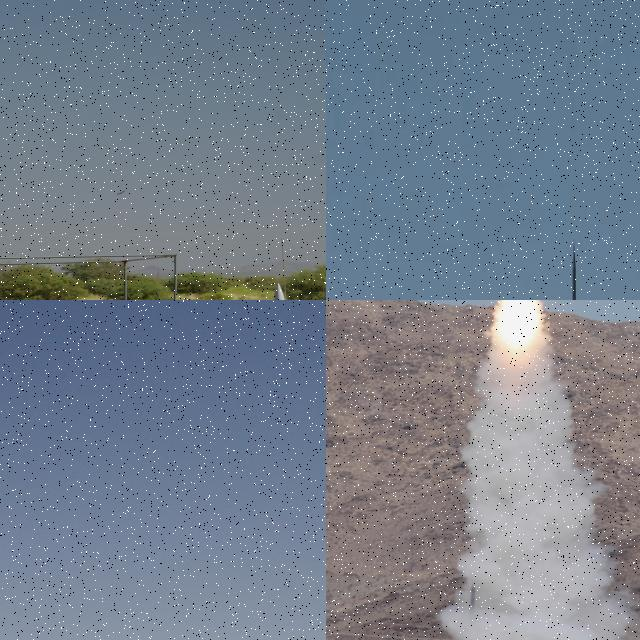Rocket: (263, 281, 302, 300), (569, 243, 578, 300)
